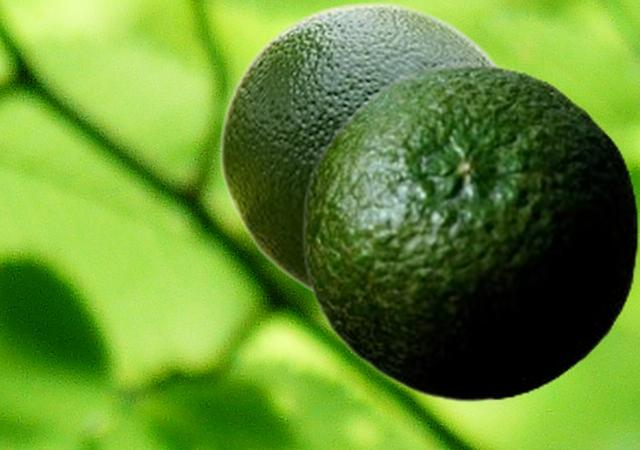calamansi: (301, 62, 638, 402), (218, 1, 500, 294)
